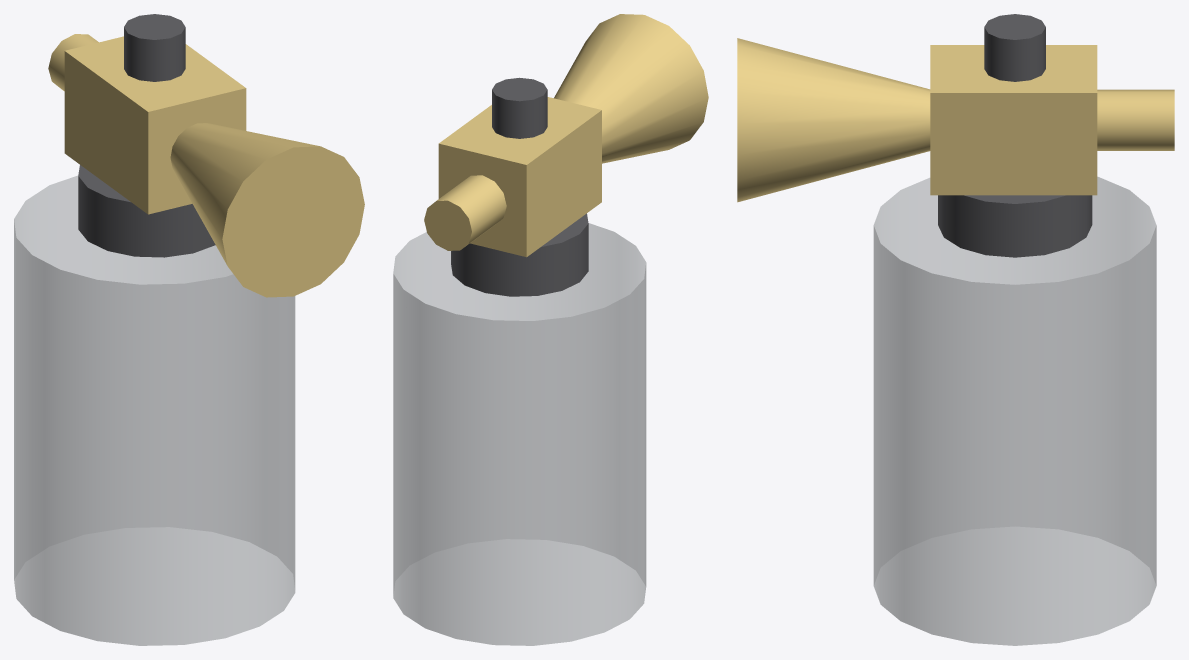
Rendered from Foam Cannon.fbx.
3 views of the same model, side by side, from view 1: azimuth 30°, elevation 25°; view 2: azimuth 150°, elevation 25°; view 3: azimuth 270°, elevation 25° (orthographic). The views are drawn at different scales.
Parts seen in each view (by area): view 1: Foam Cannon; view 2: Foam Cannon; view 3: Foam Cannon.
Boxes of the visible parts, box(x1,y1,x2,y2) form: Foam Cannon: box(14, 14, 364, 645); Foam Cannon: box(393, 14, 708, 645); Foam Cannon: box(737, 14, 1174, 645).
Size of the model in its own units: 0.11 by 0.24 by 0.17.
